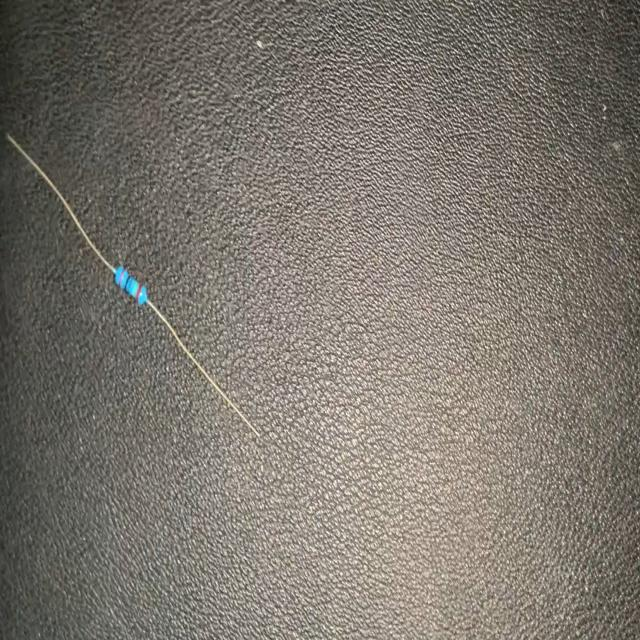resistor: (4, 117, 264, 448)
